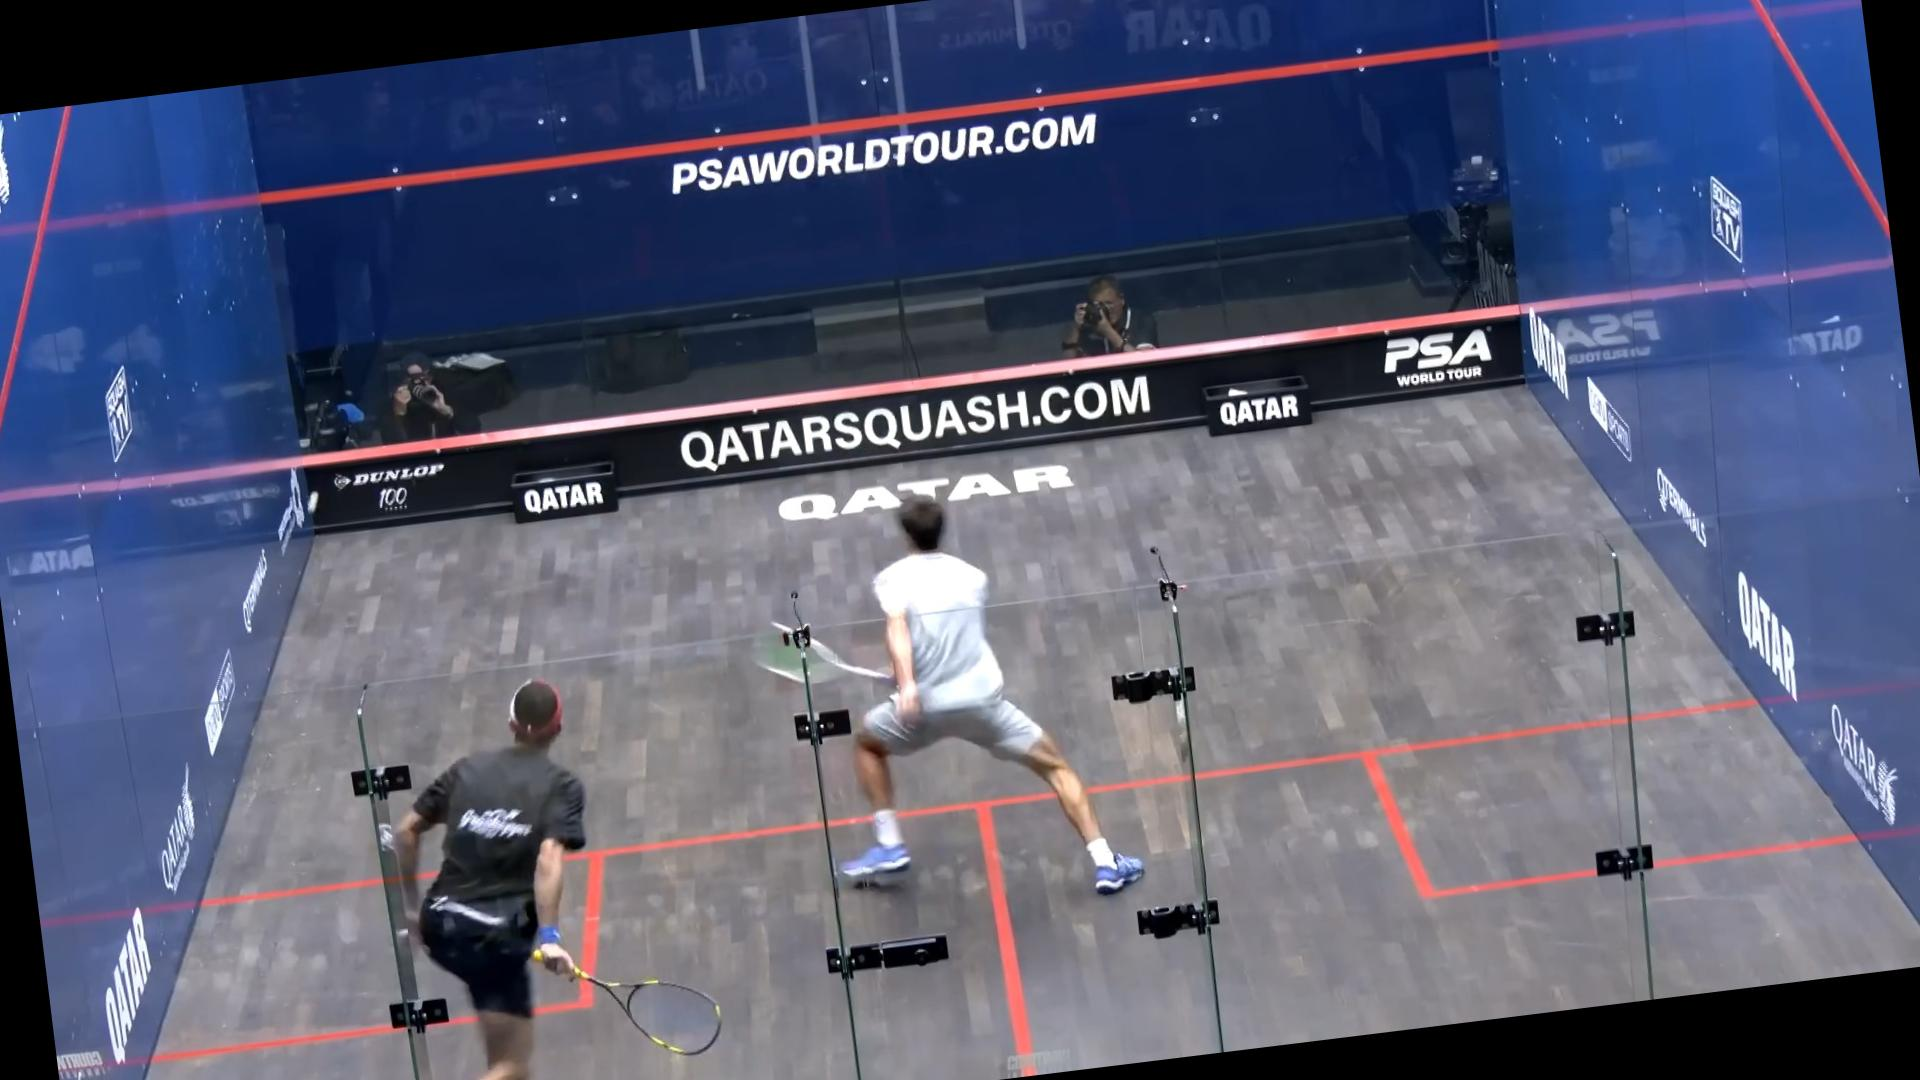Racket: (578, 944, 735, 1068), (738, 596, 894, 705)
